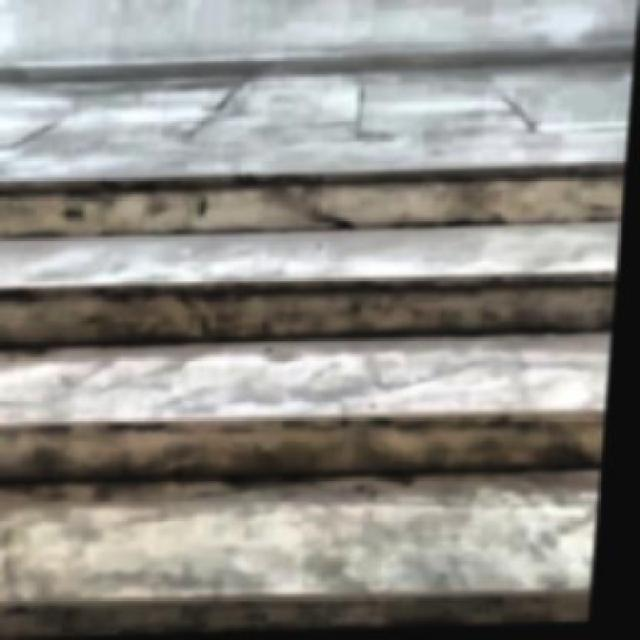stair: (0, 160, 628, 638)
